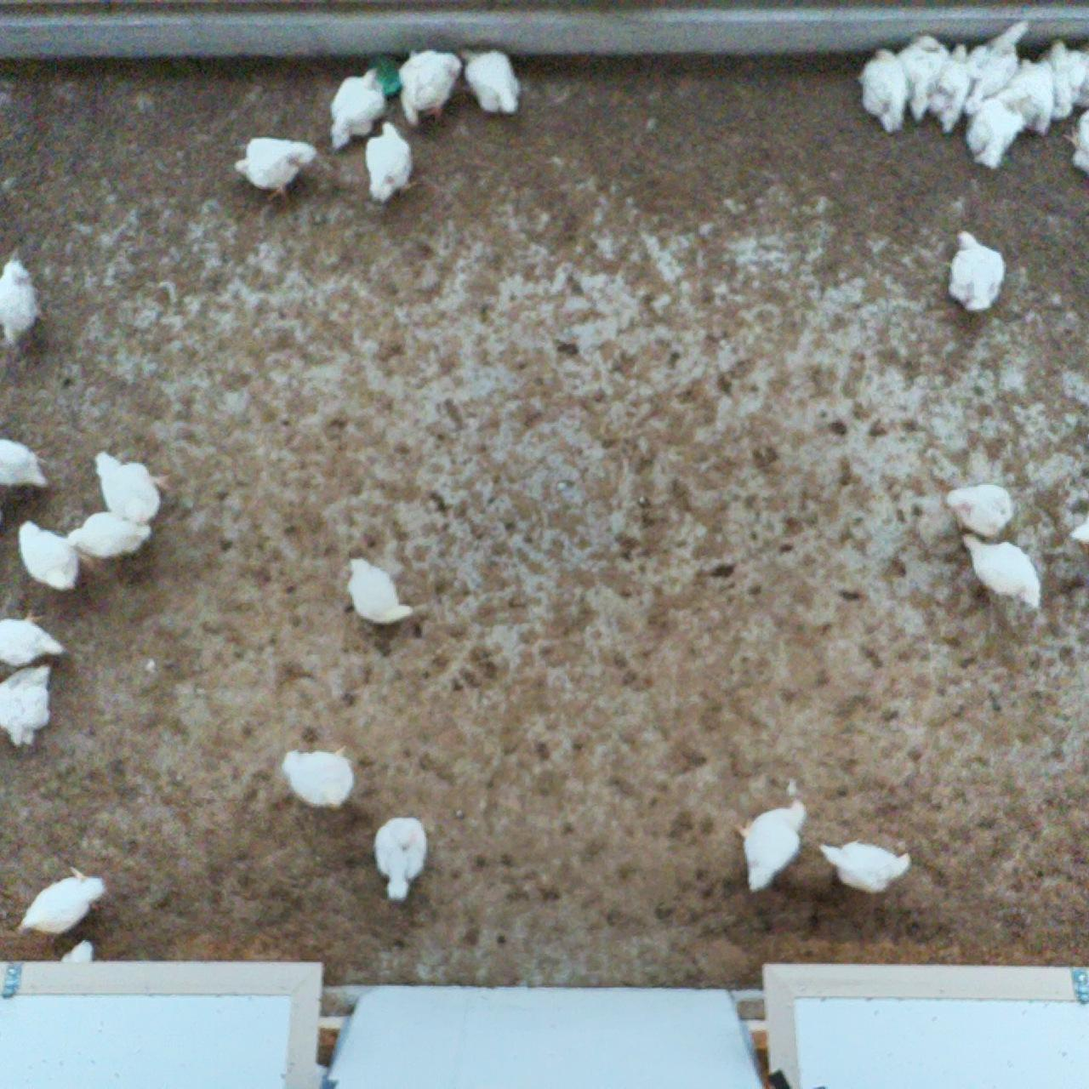chicken: (733, 798, 811, 897), (959, 17, 1032, 120), (957, 530, 1044, 612), (16, 865, 112, 936), (230, 132, 320, 207), (961, 81, 1030, 172), (815, 835, 914, 897), (942, 225, 1009, 316), (392, 44, 464, 128), (91, 448, 165, 525), (279, 742, 357, 814), (342, 553, 415, 629), (328, 62, 389, 151), (371, 813, 431, 902), (896, 31, 954, 123), (14, 517, 81, 596), (0, 663, 57, 755), (62, 508, 156, 561), (457, 45, 525, 117), (922, 42, 974, 135), (855, 46, 909, 133), (361, 120, 415, 206), (943, 479, 1015, 543), (1036, 36, 1088, 124), (0, 253, 43, 349), (1011, 54, 1056, 138), (0, 615, 66, 669), (0, 433, 53, 496), (1058, 108, 1089, 180)
